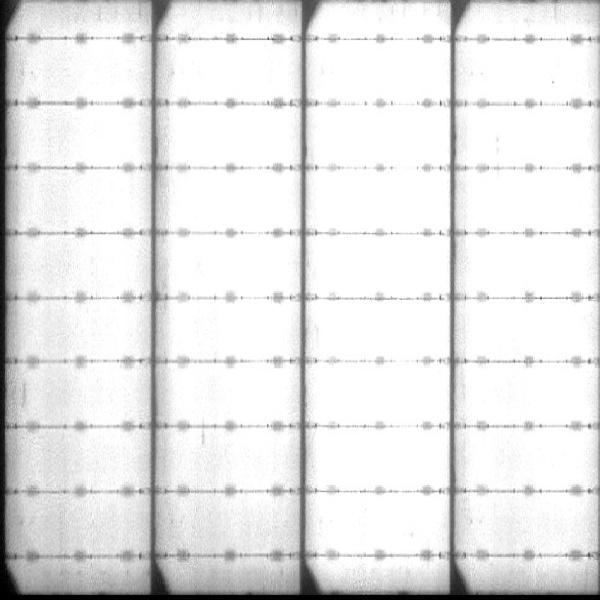hot_spot: (463, 428, 588, 489), (315, 497, 439, 551), (318, 432, 441, 484), (323, 369, 434, 423), (332, 109, 443, 163), (327, 241, 439, 293), (181, 109, 296, 158), (329, 176, 444, 225), (475, 307, 580, 359), (478, 241, 585, 292), (187, 175, 294, 225), (330, 304, 437, 354), (479, 178, 585, 228), (483, 113, 585, 161), (326, 49, 437, 93), (188, 309, 292, 354), (188, 372, 288, 418), (190, 246, 294, 290), (477, 50, 576, 96), (492, 497, 578, 546), (193, 56, 283, 96), (221, 435, 280, 481)
